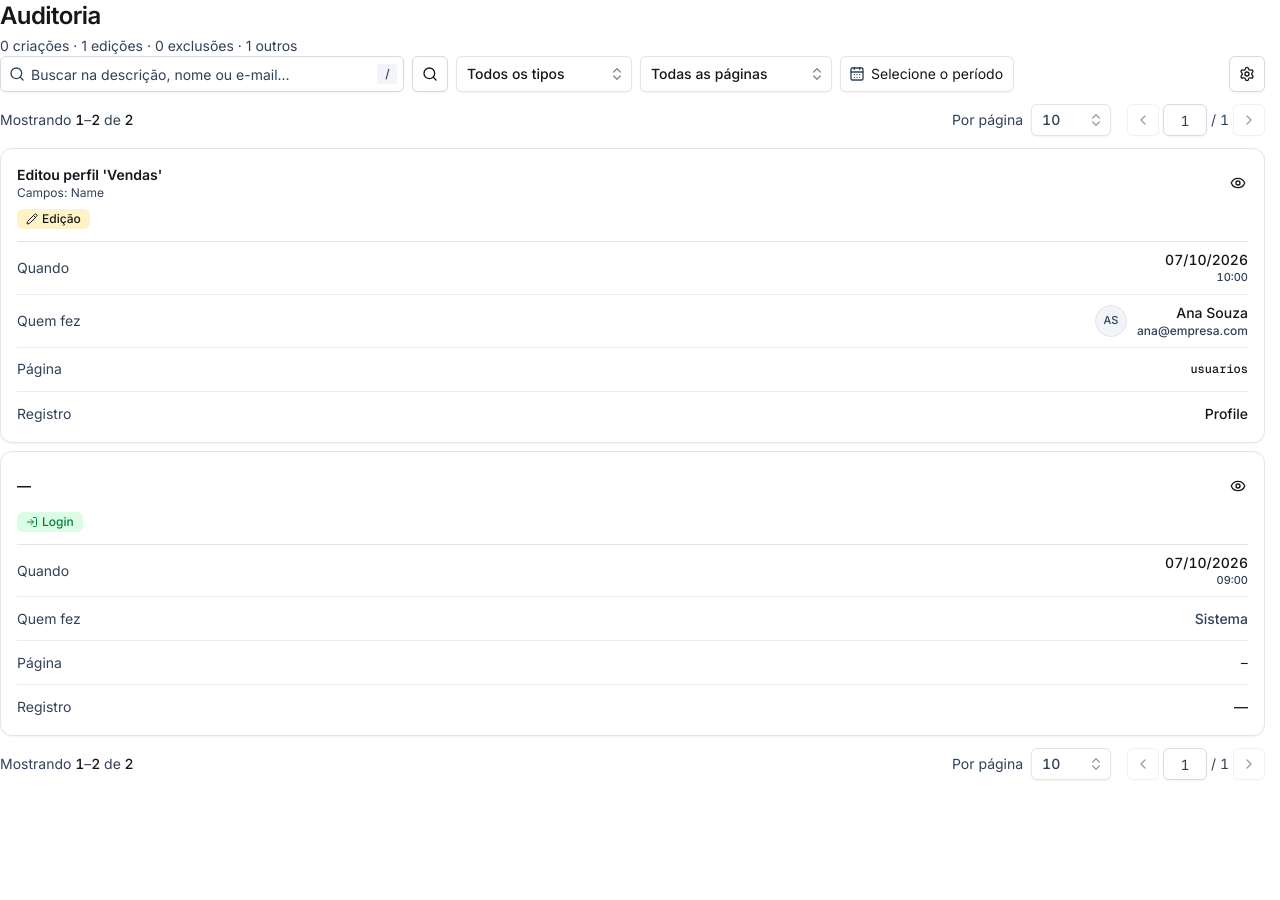
Test: AuditWorkspace › abre o detalhe com o antes e depois
Click the button named "Ver detalhe: Editou perfil 'Vendas'": (1238, 183) [1222,167,1254,199]
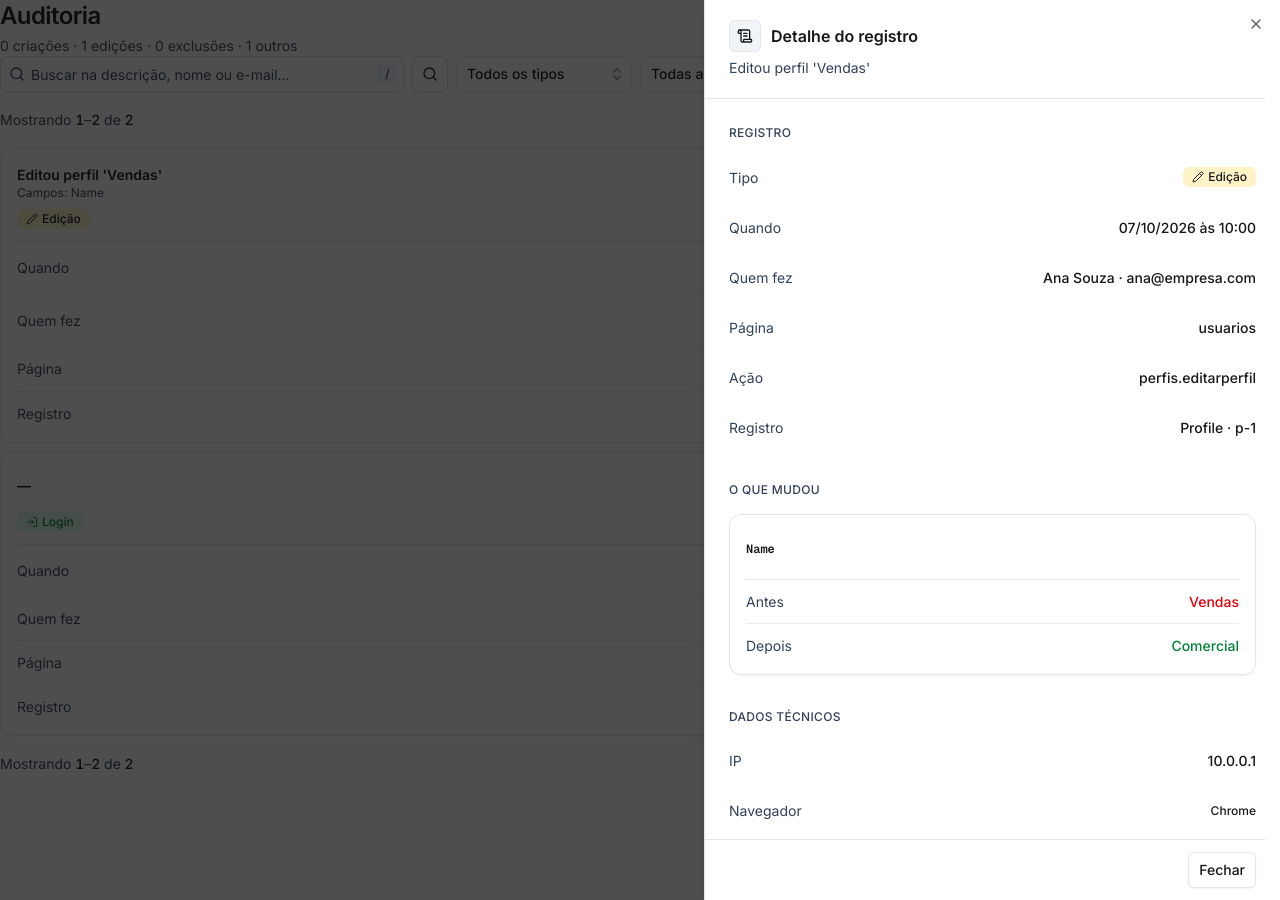
Now the text "Vendas" is shown, box [1189,592,1239,612]
Now the text "Comercial" is shown, box [1171,636,1239,656]
